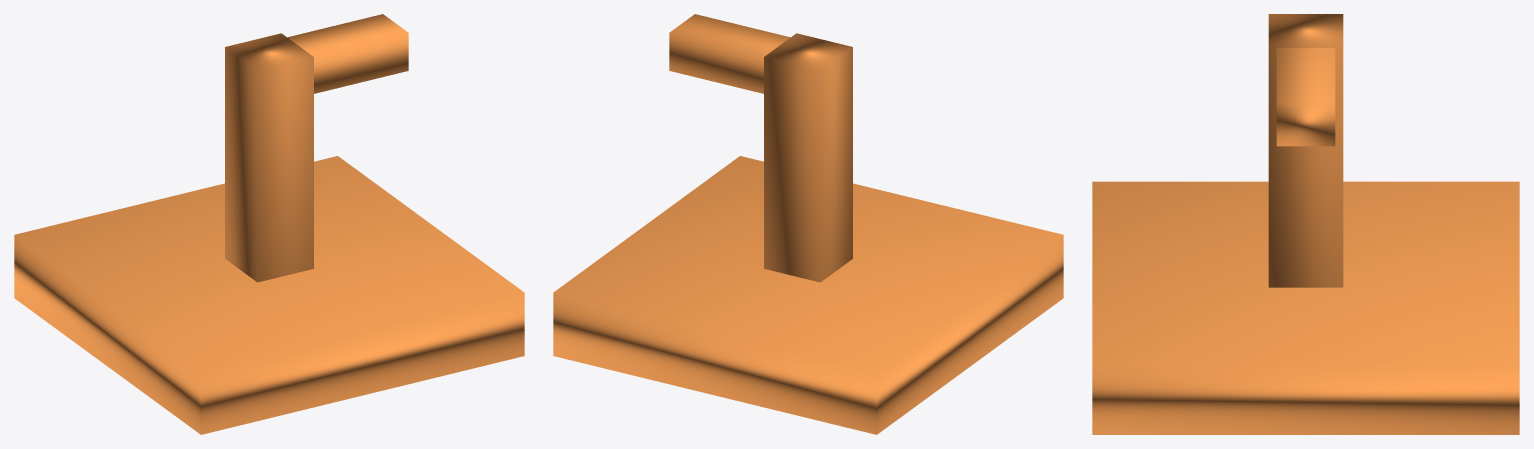
Rendered from robot-cell.gltf.
3 renders of one model, left to right at view 1: azimuth 30°, elevation 25°; view 2: azimuth 150°, elevation 25°; view 3: azimuth 270°, elevation 25°, orthographic. The views are drawn at different scales.
Visible parts, largest first — view 1: Base, Arm, Tool; view 2: Base, Arm, Tool; view 3: Base, Arm, Tool.
Boxes of the visible parts, bbox=[...] form: Base: bbox=[14, 156, 524, 434]; Arm: bbox=[225, 33, 313, 282]; Tool: bbox=[287, 14, 408, 93]; Base: bbox=[553, 156, 1063, 434]; Arm: bbox=[764, 33, 852, 282]; Tool: bbox=[669, 14, 790, 93]; Base: bbox=[1092, 181, 1519, 434]; Arm: bbox=[1268, 14, 1343, 287]; Tool: bbox=[1276, 48, 1335, 146].
Bounding box in the file's own units: 3.2 × 2.6 × 3.2.
